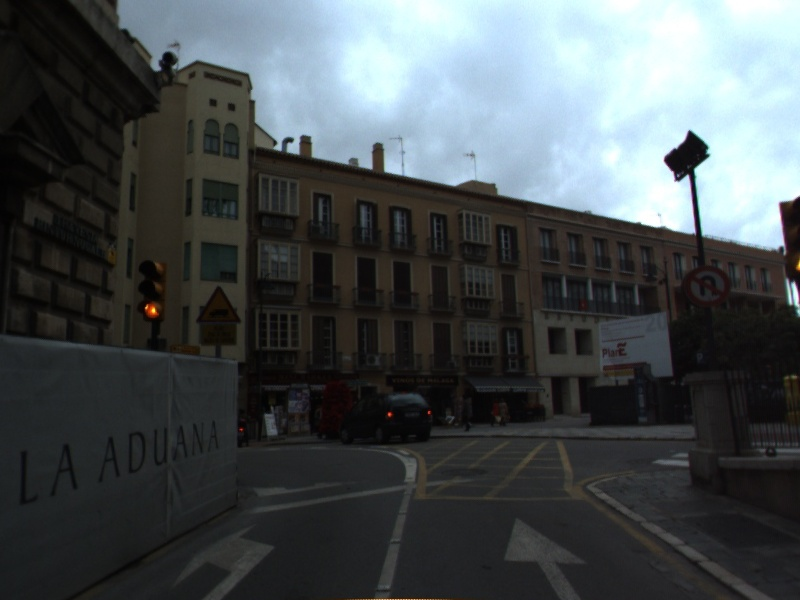LEFT: (165, 520, 280, 600)
STRAIGHT: (501, 513, 591, 600)
